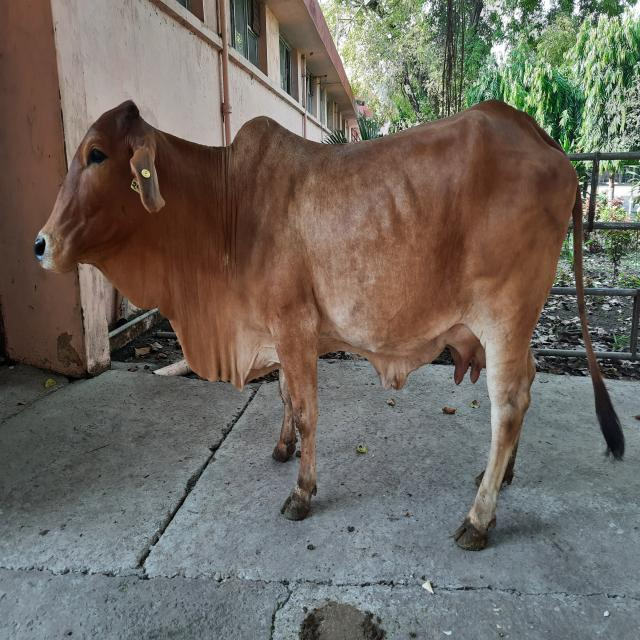cow: (34, 97, 626, 551)
hump: (223, 114, 296, 146)
